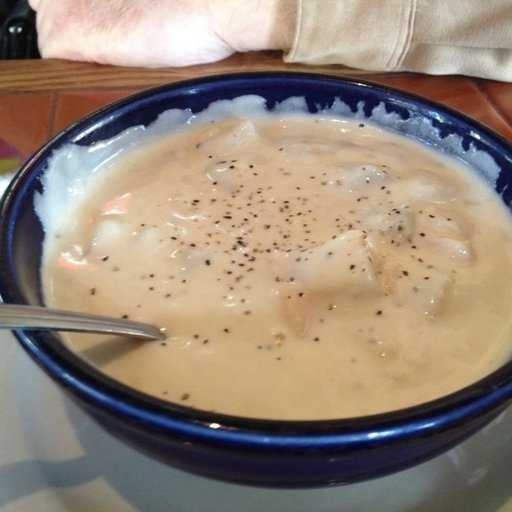soup: (11, 78, 510, 420)
